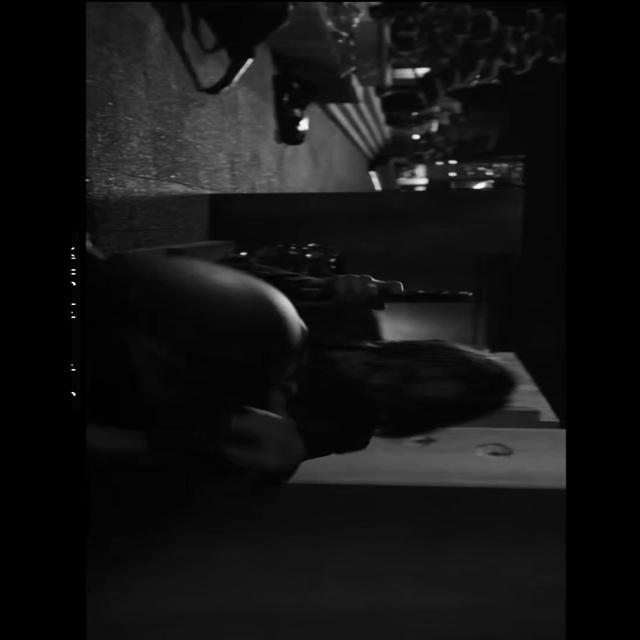weapons: (305, 266, 501, 316)
